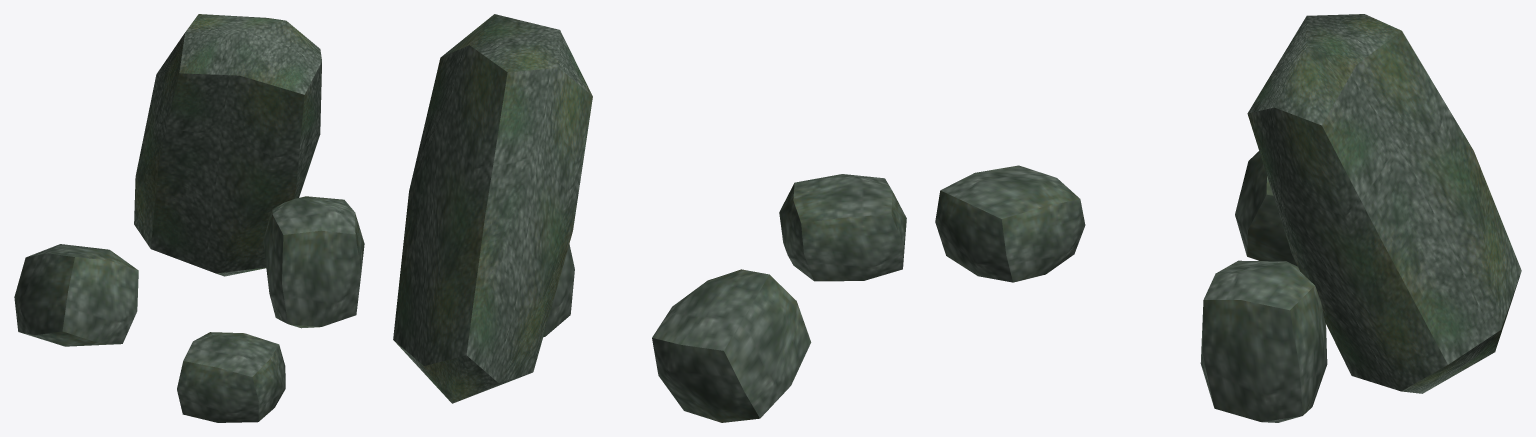
Rendered from ruins01.obj.
3 views of the same model, side by side, from view 1: azimuth 30°, elevation 25°; view 2: azimuth 150°, elevation 25°; view 3: azimuth 270°, elevation 25° (orthographic). The views are drawn at different scales.
Visible parts, largest first — view 1: Duplicate01, Duplicate02, Duplicate03, Box01; view 2: Duplicate01, Duplicate03, Box01, Duplicate02; view 3: Duplicate01, Duplicate02, Box01, Duplicate03.
Part boxes in pixels (<box>): Duplicate01: <box>134,14,321,276</box>; Duplicate02: <box>263,196,364,328</box>; Duplicate03: <box>14,244,138,346</box>; Box01: <box>177,332,285,422</box>; Duplicate01: <box>393,14,592,403</box>; Duplicate03: <box>652,269,811,422</box>; Box01: <box>779,174,906,281</box>; Duplicate02: <box>543,244,574,337</box>; Duplicate01: <box>1247,14,1521,393</box>; Duplicate02: <box>1200,260,1327,422</box>; Box01: <box>935,165,1085,282</box>; Duplicate03: <box>1235,151,1297,266</box>.
Size of the model in its own units: 23.62 by 21.14 by 31.51.
